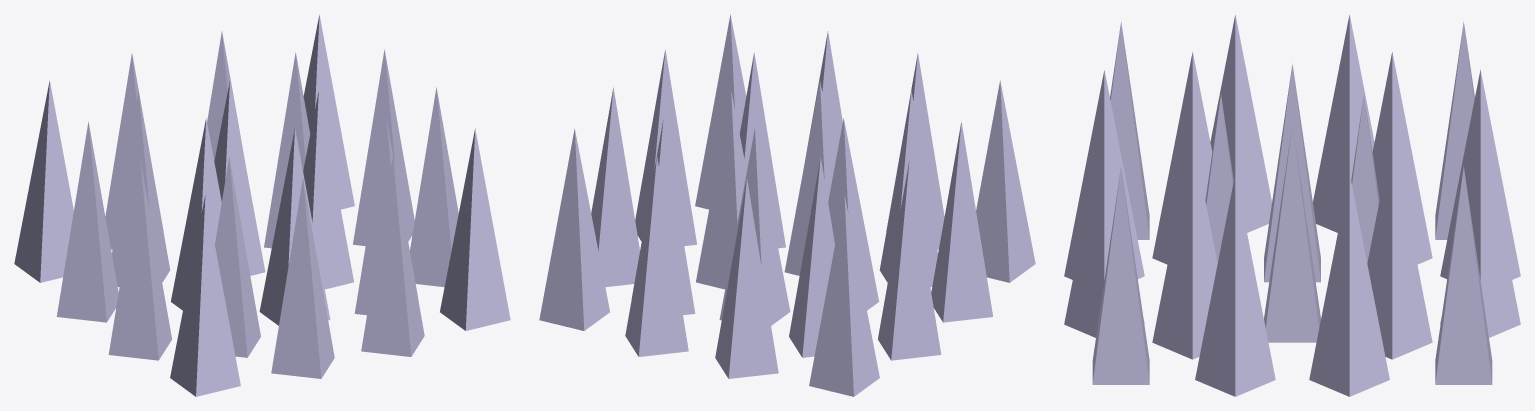
The model's file is Spikes1.fbx.
3 views of the same model, side by side, from view 1: azimuth 30°, elevation 25°; view 2: azimuth 150°, elevation 25°; view 3: azimuth 270°, elevation 25° (orthographic). The views are drawn at different scales.
Visible parts, largest first — view 1: spikes (1); view 2: spikes (1); view 3: spikes (1).
Part boxes in pixels (x1,y1,x2,y2): spikes (1): [14, 14, 510, 396]; spikes (1): [539, 14, 1035, 396]; spikes (1): [1064, 15, 1520, 396].
Size of the model in its own units: 2 by 1 by 2.
